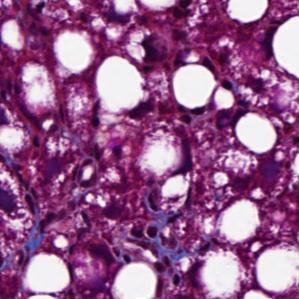inflammation: (154, 252, 183, 288), (124, 220, 164, 245)
